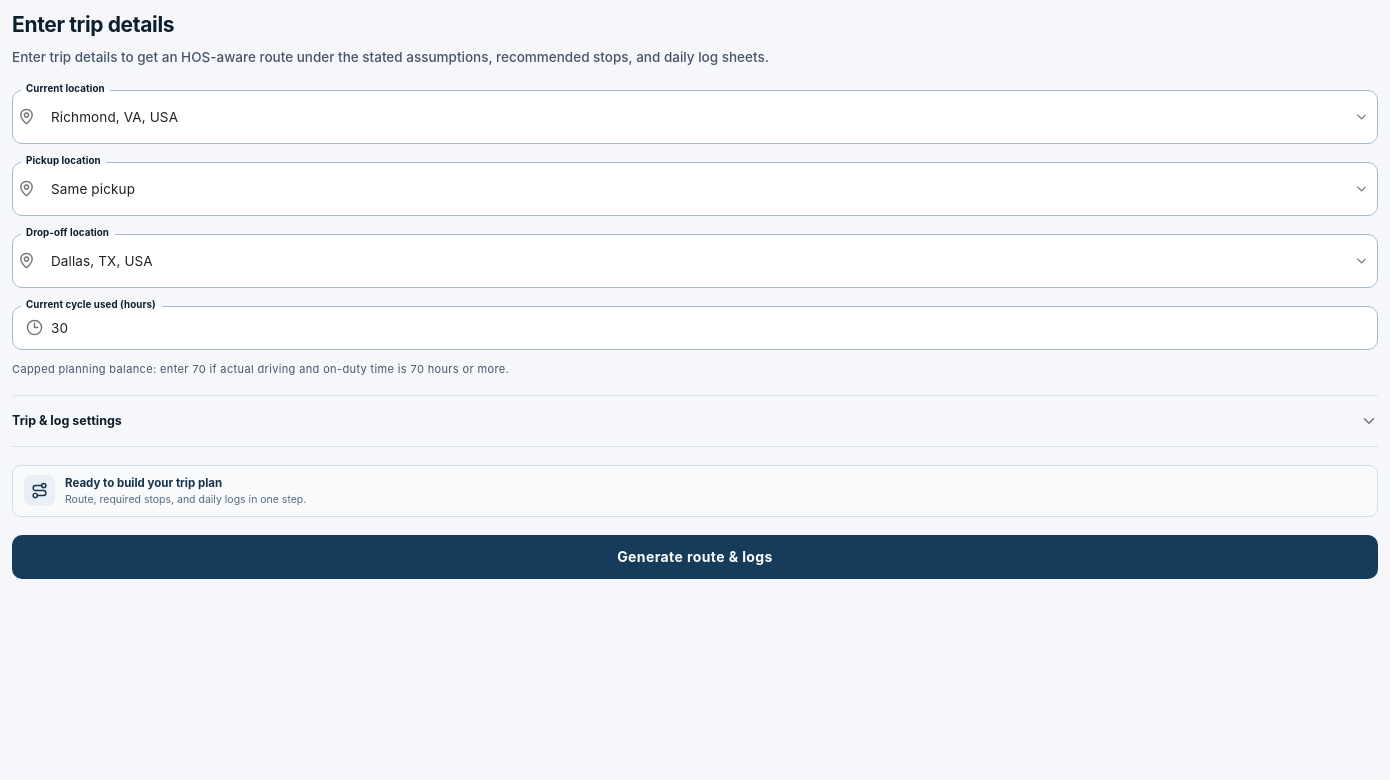
TripForm › rejects duplicate coordinates for current and pickup
This screenshot has width=1390, height=780.
Click the button "Generate route & logs" at (695, 557), box [12, 535, 1378, 579]
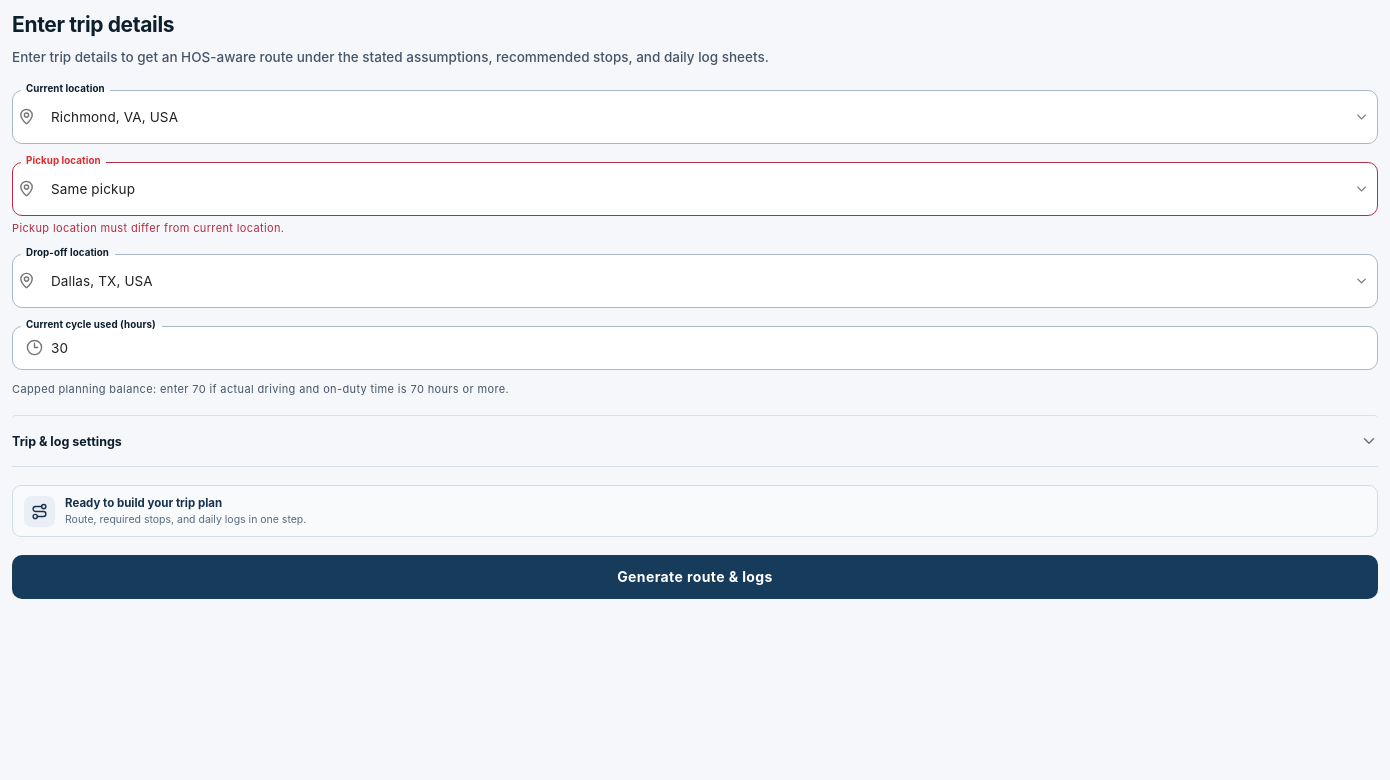
expect the message reads "Pickup location must differ from current location.": met, box [12, 220, 284, 234]
